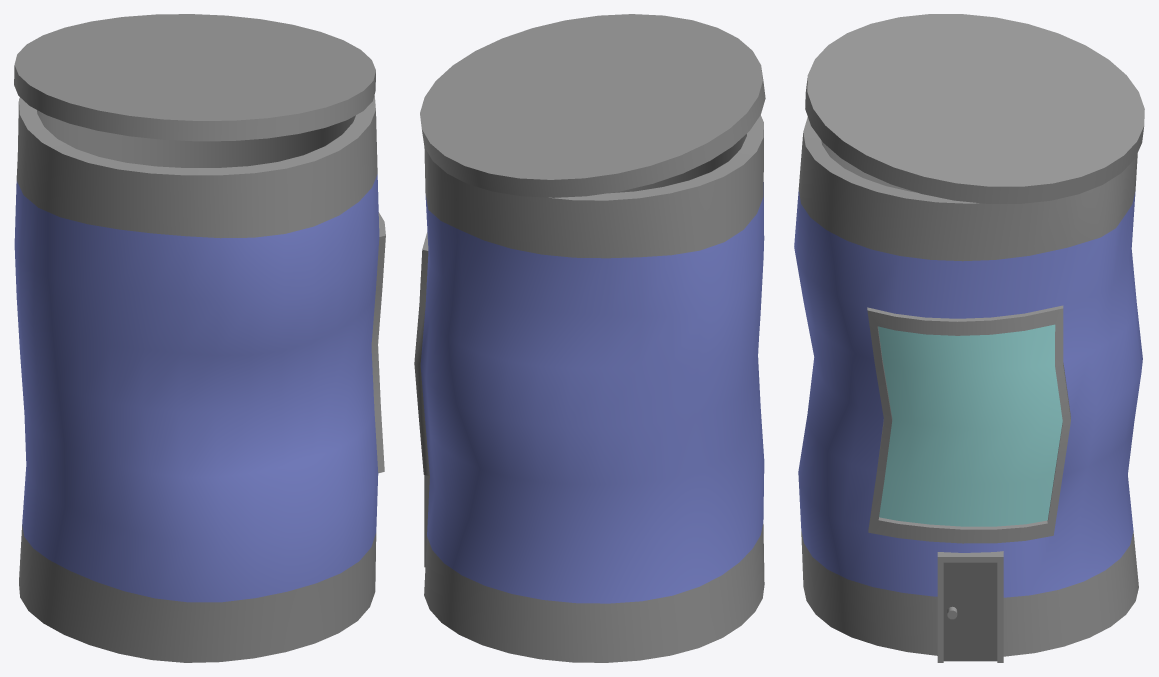
File: Can_Blue.fbx
The picture shows the model from 3 angles, left to right: view 1: azimuth 30°, elevation 25°; view 2: azimuth 150°, elevation 25°; view 3: azimuth 270°, elevation 25°; orthographic projection. The views are drawn at different scales.
Parts seen in each view (by area): view 1: Cube.002; view 2: Cube.002; view 3: Cube.002.
Part boxes in pixels (box(x1,y1,x2,y2)): Cube.002: box(14, 14, 385, 662); Cube.002: box(414, 14, 765, 662); Cube.002: box(794, 14, 1144, 662).
Size of the model in its own units: 123 by 197 by 122.
